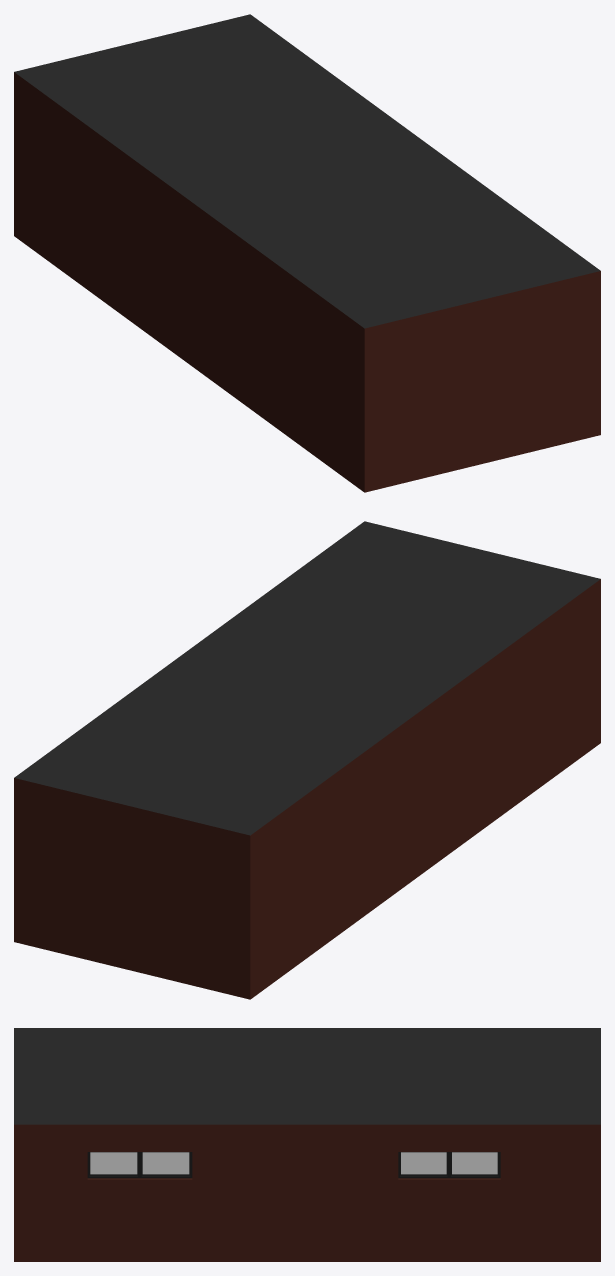
Rendered from yk_treatlot_socooltretaloboksi.fbx.
3 views of the same model, one above another, from view 1: azimuth 30°, elevation 25°; view 2: azimuth 150°, elevation 25°; view 3: azimuth 270°, elevation 25° (orthographic). The views are drawn at different scales.
Parts seen in each view (by area): view 1: tretaloboksi; view 2: tretaloboksi; view 3: tretaloboksi.
Boxes of the visible parts, x1,y1,x2,y2 form: tretaloboksi: (14,14,600,492); tretaloboksi: (14,521,600,999); tretaloboksi: (14,1028,600,1261).
Size of the model in its own units: 466 by 310 by 1198.
